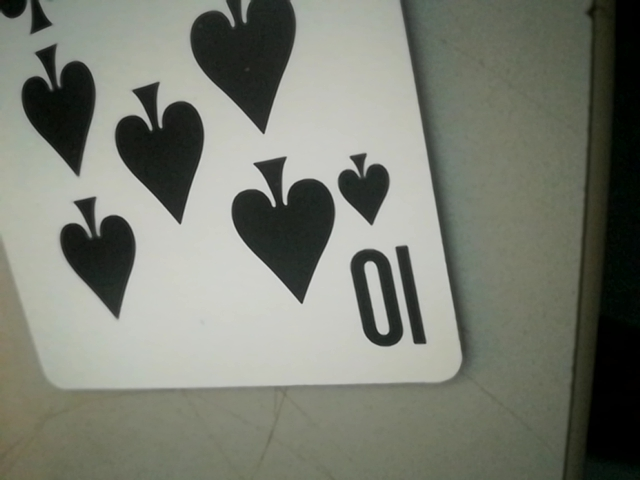ht 10: (325, 150, 426, 356)
